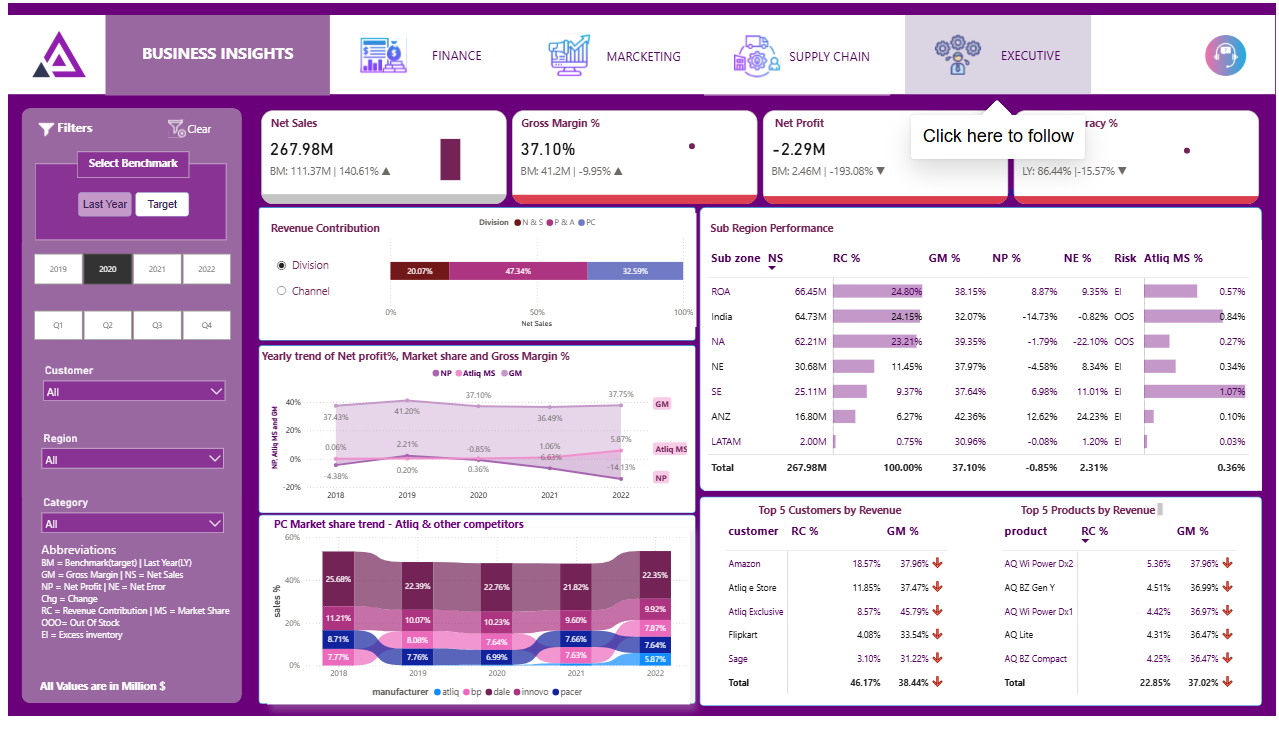

What the dashboard file says about the page in this screenshot:
{"tool":"powerbi","page":{"name":"Executive View","canvas":[1920,1080],"ordinal":1},"visuals":[{"type":"shape","box":[1047.5,747.5,852.5,317.5],"z":0},{"type":"shape","box":[1047.5,310,852.5,430],"z":1000},{"type":"shape","box":[380,310,662.5,202.5],"z":2000},{"type":"shape","box":[380,517.5,662.5,255],"z":3000},{"type":"shape","box":[380,775,662.5,287.5],"z":4000},{"type":"lineClusteredColumnComboChart","fields":{"Y2":["P/L Measures.Net Profit %","P/L Measures.market share %","P/L Measures.Gross Margin %"],"Category":["fiscal_year.fiscal_year"]},"box":[392.5,540,640,222.5],"z":5000},{"type":"textbox","box":[1001.4,191.6,155.9,41.4],"z":6000},{"type":"textbox","box":[1182.7,190,165.4,47.7],"z":7000},{"type":"textbox","box":[1336,268,176,42],"z":8000},{"type":"textbox","box":[1476,268,190,42],"z":9000},{"type":"tableEx","fields":{"Values":["sub_zone.sub_zone","P/L Measures.Net Sales","P/L Measures.Revenue Contrib %","P/L Measures.Gross Margin %","P/L Measures.Net Profit %","P/L Measures.Net Error%","P/L Measures.Risk","P/L Measures.market share %"]},"box":[1055,360,845,380],"z":10000},{"type":"hundredPercentStackedBarChart","fields":{"Series":["dim_product.division"],"Y":["P/L Measures.Net Sales"]},"box":[570,317.5,472.5,172.5],"z":11000},{"type":"ribbonChart","fields":{"Category":["fiscal_year.fiscal_year"],"Series":["marketshare.manufacturer"],"Y":["P/L Measures.sales %"]},"box":[392.5,795,640,267.5],"z":12000},{"type":"pivotTable","fields":{"Rows":["dim_customer.customer"],"Values":["P/L Measures.Revenue Contrib %","P/L Measures.Gross Margin %"]},"box":[1082.5,772.5,365,287.5],"z":13000},{"type":"pivotTable","fields":{"Values":["P/L Measures.Revenue Contrib %","P/L Measures.Gross Margin %"],"Rows":["dim_product.product"]},"box":[1500,772.5,380,287.5],"z":14000},{"type":"textbox","box":[317.5,772.5,547.5,40],"z":15000},{"type":"textbox","box":[1132.5,752.5,275,47.5],"z":16000},{"type":"textbox","box":[1530,752.5,225,30],"z":17000},{"type":"textbox","box":[380,517.5,550,47.5],"z":18000},{"type":"textbox","box":[1362.5,250,165,37.5],"z":19000},{"type":"shape","box":[20,160,334,902],"z":20000},{"type":"shape","box":[0,18,1920,120],"z":21000},{"type":"image","box":[20,26,114,104],"z":22000},{"type":"slicer","fields":{"Values":["fiscal_year.fiscal_year"]},"box":[14,372,348,60],"z":23000},{"type":"slicer","fields":{"Values":["dim_date.Quarter"]},"box":[14,460,348,58],"z":24000},{"type":"textbox","box":[62,170,80,42],"z":25000},{"type":"slicer","fields":{"Values":["dim_market.region"]},"box":[42,644,296,80],"z":26000},{"type":"slicer","fields":{"Values":["dim_customer.customer"]},"box":[44,540,296,72],"z":27000},{"type":"slicer","fields":{"Values":["dim_product.category"]},"box":[42,740,296,70],"z":28000},{"type":"textbox","box":[42,244,290,116],"z":29000},{"type":"textbox","box":[45,810,310,207.5],"z":30000},{"type":"textbox","box":[42.5,1017.5,240,42.5],"z":31000},{"type":"ChicletSlicer1448559807354","fields":{"Category":["Comparision.Mode"]},"box":[98,278,184,58],"z":32000},{"type":"image","box":[42,170,34,42],"z":33000},{"type":"textbox","box":[104,224,170,40],"z":34000},{"type":"actionButton","box":[237.5,172.5,102.5,35],"z":35000},{"type":"actionButton","box":[488,18,284,122],"z":36000},{"type":"actionButton","box":[772,28,282,104],"z":37000},{"type":"actionButton","box":[1054,20,282,120],"z":38000},{"type":"actionButton","box":[1360,18,282,120],"z":39000},{"type":"image","box":[1800,42.5,90,72.5],"z":40000},{"type":"textbox","box":[148,18,340,122],"z":41000},{"type":"cardVisual","fields":{"Data":["P/L Measures.Net Sales","P/L Measures.Gross Margin %","P/L Measures.Net Profit","P/L Measures.Forecast Accuracy %"]},"box":[362.5,155,1537.5,155],"z":42000},{"type":"textbox","box":[392.5,165,105,47.5],"z":43000},{"type":"textbox","box":[1157.5,165,130,37.5],"z":44000},{"type":"textbox","box":[772.5,165,150,37.5],"z":45000},{"type":"textbox","box":[1500,165,210,37.5],"z":46000},{"type":"slicer","fields":{"Values":["Parameter Division/Channel.Parameter Division/Channel"]},"box":[392.5,372.5,177.5,92.5],"z":47000},{"type":"textbox","box":[392.5,325,275,47.5],"z":48000},{"type":"textbox","box":[1060,325,275,47.5],"z":49000},{"type":"clusteredColumnChart","fields":{"Y":["P/L Measures.Net Sales"],"Category":["fiscal_year.fiscal_year"]},"box":[592.5,185,152.5,90],"z":50000},{"type":"lineChart","fields":{"Category":["fiscal_year.fiscal_year"],"Y":["P/L Measures.Gross Margin %"]},"box":[960,175,152.5,90],"z":51000},{"type":"lineChart","fields":{"Category":["fiscal_year.fiscal_year"],"Y":["P/L Measures.Net Profit"]},"box":[1347.5,180,152.5,90],"z":52000},{"type":"lineChart","fields":{"Category":["fiscal_year.fiscal_year"],"Y":["P/L Measures.Forecast Accuracy %"]},"box":[1710,180,152.5,90],"z":53000}]}

Visuals, with their boxes in screenshot pixels (x1, y1, x2, y2), scaled from the page's 1920x1080 canvas onto the 1279x735 screenshot:
shape: locate(698, 509, 1266, 725)
shape: locate(698, 211, 1266, 504)
shape: locate(253, 211, 694, 349)
shape: locate(253, 352, 694, 526)
shape: locate(253, 527, 694, 723)
lineClusteredColumnComboChart - P/L Measures.Net Profit % x P/L Measures.market share %: locate(261, 368, 688, 519)
textbox: locate(667, 130, 771, 159)
textbox: locate(788, 129, 898, 162)
textbox: locate(890, 182, 1007, 211)
textbox: locate(983, 182, 1110, 211)
tableEx - sub_zone.sub_zone x P/L Measures.Net Sales: locate(703, 245, 1266, 504)
hundredPercentStackedBarChart - dim_product.division x P/L Measures.Net Sales: locate(380, 216, 694, 333)
ribbonChart - fiscal_year.fiscal_year x marketshare.manufacturer: locate(261, 541, 688, 723)
pivotTable - dim_customer.customer x P/L Measures.Revenue Contrib %: locate(721, 526, 964, 721)
pivotTable - P/L Measures.Revenue Contrib % x P/L Measures.Gross Margin %: locate(999, 526, 1252, 721)
textbox: locate(212, 526, 576, 553)
textbox: locate(754, 512, 938, 544)
textbox: locate(1019, 512, 1169, 533)
textbox: locate(253, 352, 620, 385)
textbox: locate(908, 170, 1018, 196)
shape: locate(13, 109, 236, 723)
shape: locate(0, 12, 1278, 94)
image: locate(13, 18, 89, 88)
slicer - fiscal_year.fiscal_year: locate(9, 253, 241, 294)
slicer - dim_date.Quarter: locate(9, 313, 241, 353)
textbox: locate(41, 116, 95, 144)
slicer - dim_market.region: locate(28, 438, 225, 493)
slicer - dim_customer.customer: locate(29, 368, 226, 416)
slicer - dim_product.category: locate(28, 504, 225, 551)
textbox: locate(28, 166, 221, 245)
textbox: locate(30, 551, 236, 692)
textbox: locate(28, 692, 188, 721)
ChicletSlicer1448559807354 - Comparision.Mode: locate(65, 189, 188, 229)
image: locate(28, 116, 51, 144)
textbox: locate(69, 152, 183, 180)
actionButton: locate(158, 117, 226, 141)
actionButton: locate(325, 12, 514, 95)
actionButton: locate(514, 19, 702, 90)
actionButton: locate(702, 14, 890, 95)
actionButton: locate(906, 12, 1094, 94)
image: locate(1199, 29, 1259, 78)
textbox: locate(99, 12, 325, 95)
cardVisual - P/L Measures.Net Sales x P/L Measures.Gross Margin %: locate(241, 105, 1266, 211)
textbox: locate(261, 112, 331, 145)
textbox: locate(771, 112, 858, 138)
textbox: locate(515, 112, 615, 138)
textbox: locate(999, 112, 1139, 138)
slicer - Parameter Division/Channel.Parameter Division/Channel: locate(261, 254, 380, 316)
textbox: locate(261, 221, 445, 254)
textbox: locate(706, 221, 889, 254)
clusteredColumnChart - P/L Measures.Net Sales x fiscal_year.fiscal_year: locate(395, 126, 496, 187)
lineChart - fiscal_year.fiscal_year x P/L Measures.Gross Margin %: locate(640, 119, 741, 180)
lineChart - fiscal_year.fiscal_year x P/L Measures.Net Profit: locate(898, 122, 999, 184)
lineChart - fiscal_year.fiscal_year x P/L Measures.Forecast Accuracy %: locate(1139, 122, 1241, 184)
